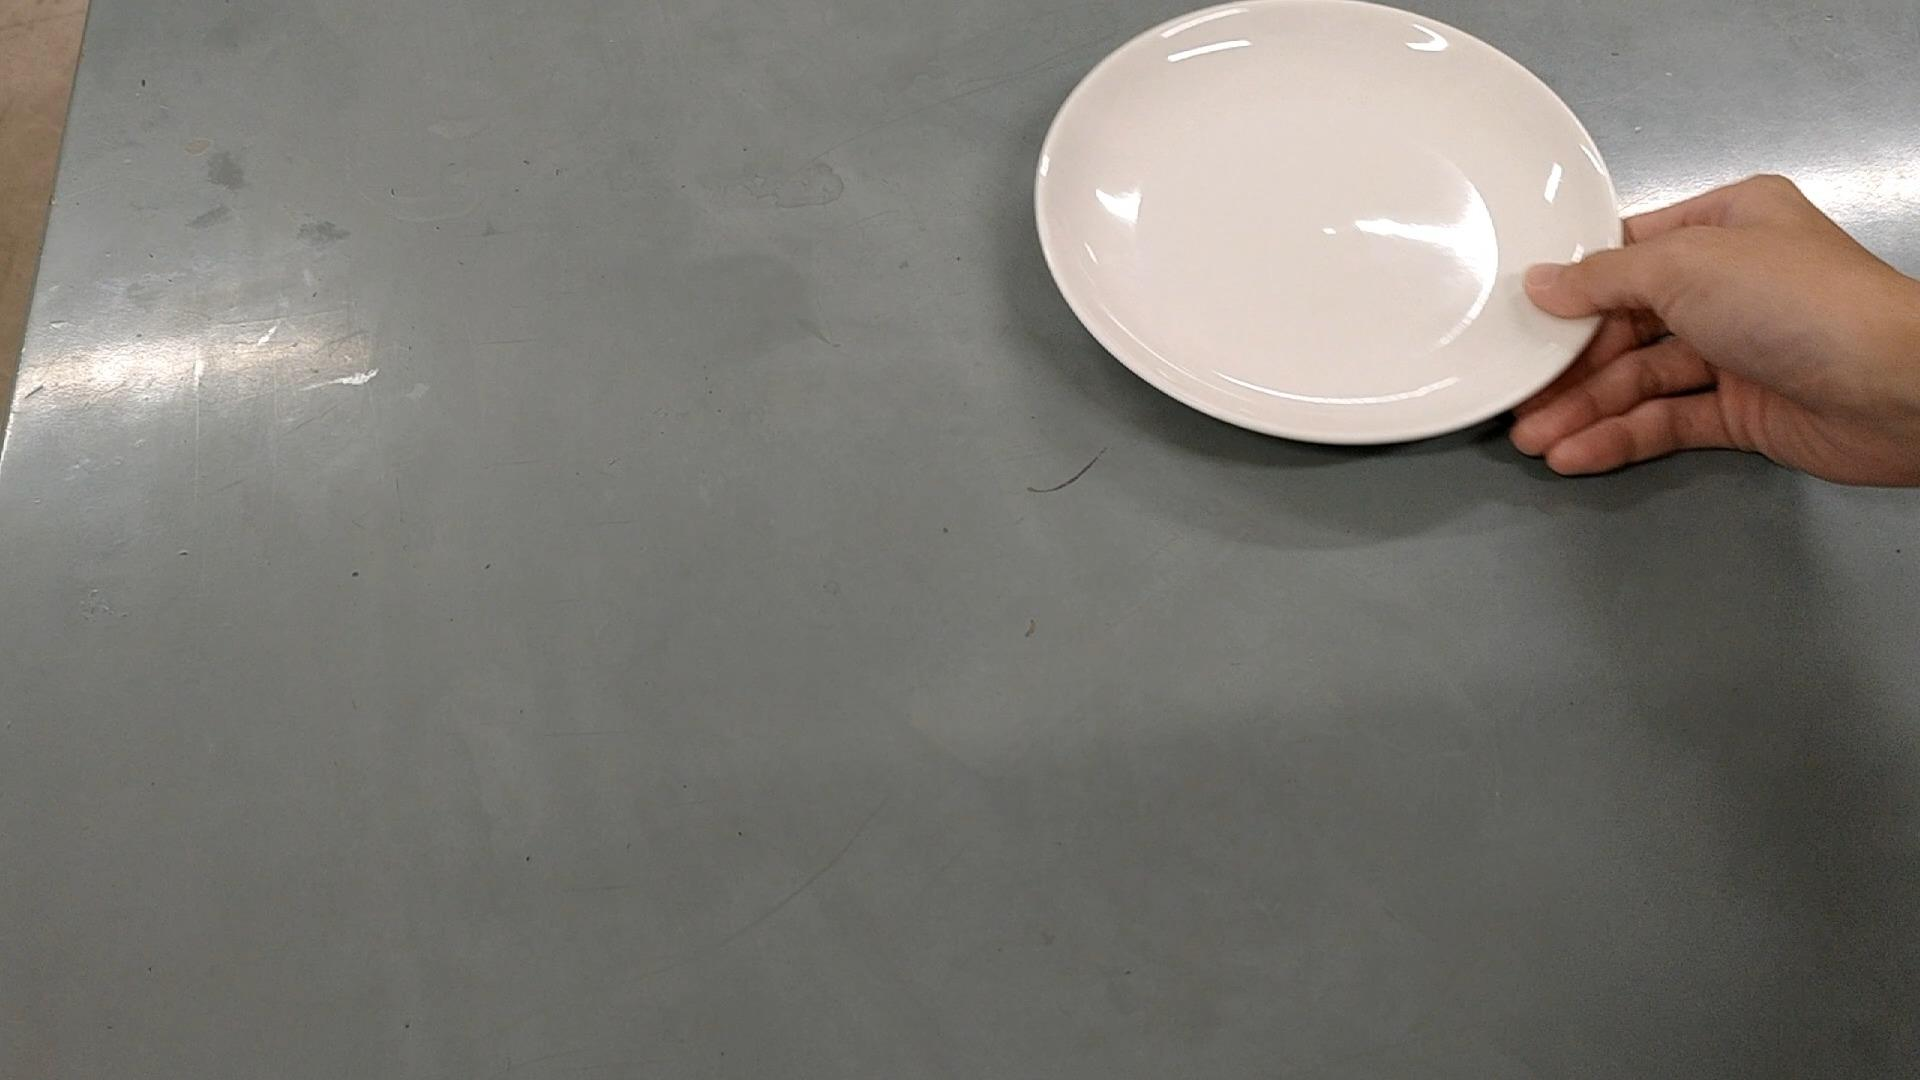plate: (1035, 3, 1623, 448)
